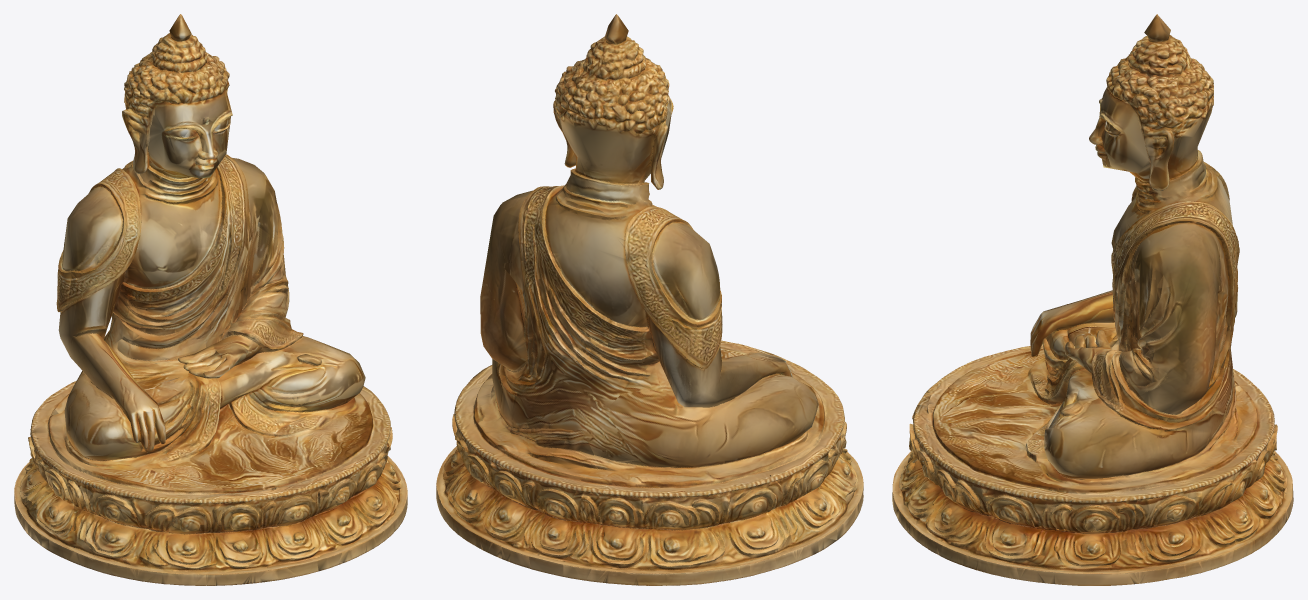
Rendered from golden_buddha_simp_mesh.glb.
The picture shows the model from 3 angles, left to right: view 1: azimuth 30°, elevation 25°; view 2: azimuth 150°, elevation 25°; view 3: azimuth 270°, elevation 25°; orthographic projection. The views are drawn at different scales.
Parts seen in each view (by area): view 1: model; view 2: model; view 3: model.
Boxes of the visible parts, x1,y1,x2,y2 form: model: (14, 14, 407, 585); model: (436, 14, 863, 585); model: (892, 14, 1293, 585).
Bounding box in the file's own units: 1.38 × 1.8 × 1.35.
1 material, 1 textured.
